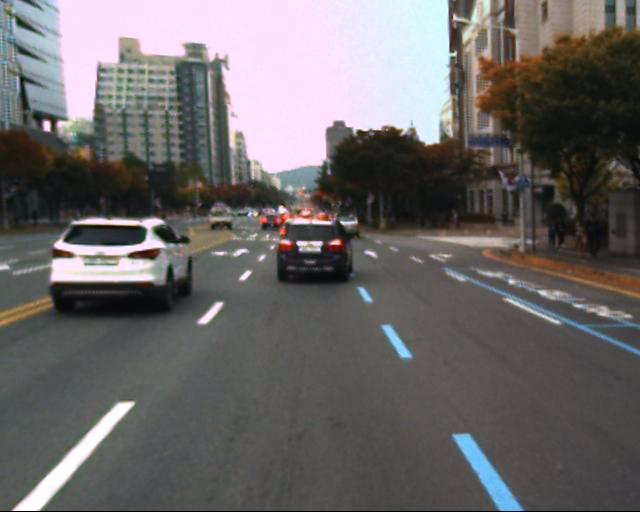person: (583, 212, 609, 264), (540, 213, 566, 255), (559, 211, 584, 254)
